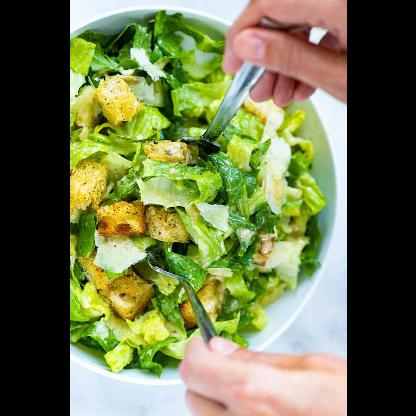salad: (70, 10, 326, 378)
